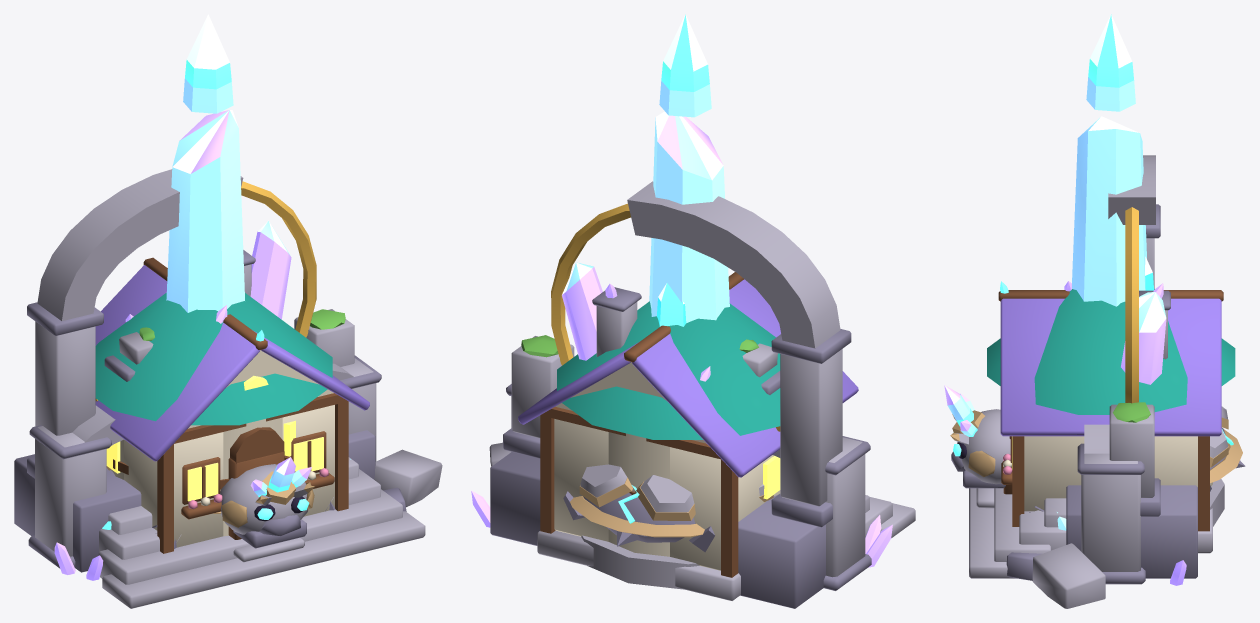
File: synes_kit_spireB.glb
3 renders of one model, left to right at view 1: azimuth 30°, elevation 25°; view 2: azimuth 150°, elevation 25°; view 3: azimuth 270°, elevation 25°, orthographic. The views are drawn at different scales.
Parts seen in each view (by area): view 1: ruin_arch_shrine, house_a, house_b, crystal_spire, crystal_gate, prismback_body, ruin_arch, prismback_horn; view 2: ruin_arch_shrine, house_a, house_b, crystal_spire, prismback_shell, crystal_gate, ruin_arch; view 3: ruin_arch_shrine, house_a, crystal_spire, house_b, crystal_gate, prismback_body, prismback_shell, prismback_horn.
Boxes of the visible parts, x1,y1,x2,y2 form: ruin_arch_shrine: [14, 169, 442, 608]; house_a: [95, 250, 369, 553]; house_b: [95, 293, 332, 562]; crystal_spire: [166, 14, 291, 319]; crystal_gate: [28, 355, 381, 568]; prismback_body: [220, 464, 314, 548]; ruin_arch: [104, 327, 154, 381]; prismback_horn: [250, 457, 311, 497]; ruin_arch_shrine: [471, 181, 915, 608]; house_a: [518, 272, 858, 600]; house_b: [557, 301, 780, 589]; crystal_spire: [562, 14, 729, 360]; prismback_shell: [570, 464, 773, 537]; crystal_gate: [506, 384, 871, 590]; ruin_arch: [739, 339, 780, 394]; ruin_arch_shrine: [969, 155, 1197, 608]; house_a: [985, 281, 1223, 553]; crystal_spire: [1072, 14, 1166, 384]; house_b: [976, 288, 1235, 526]; crystal_gate: [1057, 424, 1145, 584]; prismback_body: [950, 409, 1245, 488]; prismback_shell: [1210, 406, 1242, 483]; prismback_horn: [944, 385, 977, 436].
Bounding box in the file's own units: 7.32 × 9.15 × 5.04.
